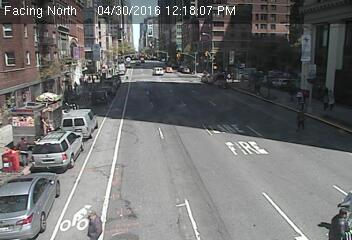pos: (293, 111, 311, 136)
